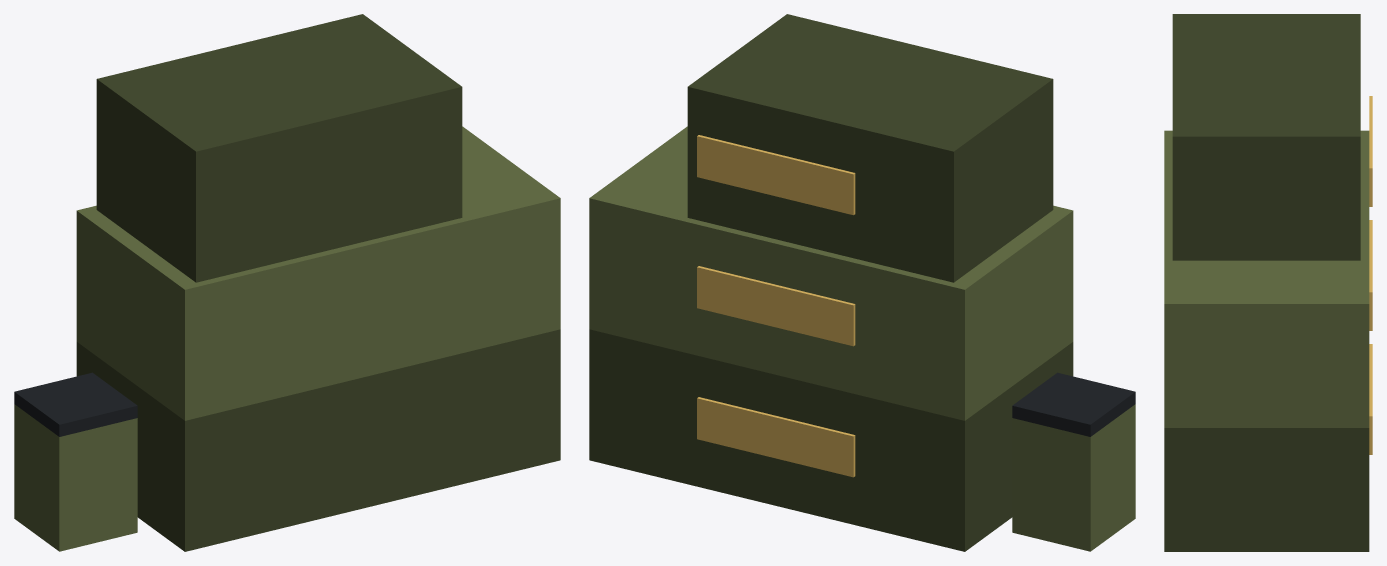
The model's file is prop_carrier_ammo_stack.fbx.
3 renders of one model, left to right at view 1: azimuth 30°, elevation 25°; view 2: azimuth 150°, elevation 25°; view 3: azimuth 270°, elevation 25°, orthographic. The views are drawn at different scales.
Visible parts, largest first — view 1: prop_carrier_ammo_stack; view 2: prop_carrier_ammo_stack; view 3: prop_carrier_ammo_stack.
Boxes of the visible parts, x1,y1,x2,y2 form: prop_carrier_ammo_stack: [14, 14, 560, 551]; prop_carrier_ammo_stack: [589, 14, 1135, 551]; prop_carrier_ammo_stack: [1164, 14, 1372, 551].
Bounding box in the file's own units: 600 × 480 × 244.
